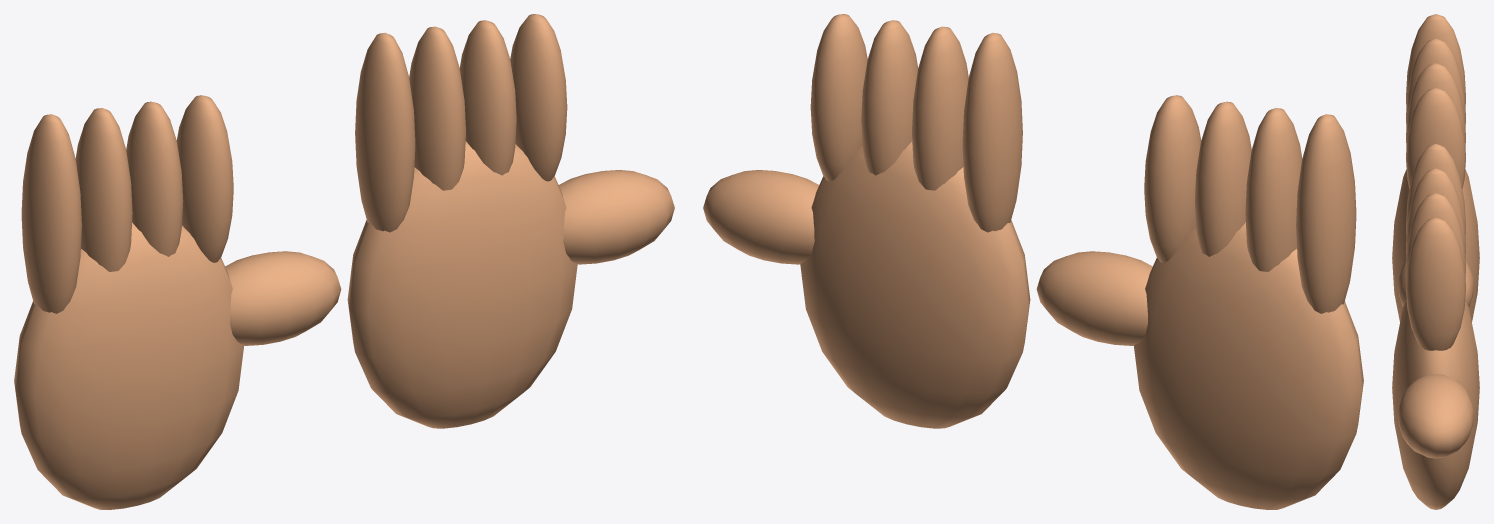
File: word-hands.glb
3 views of the same model, side by side, from view 1: azimuth 30°, elevation 25°; view 2: azimuth 150°, elevation 25°; view 3: azimuth 270°, elevation 25° (orthographic). The views are drawn at different scales.
Parts seen in each view (by area): view 1: palm.001, palm, finger, finger.004, thumb.001, thumb, finger.001, finger.005, finger.007, finger.003, finger.006, finger.002; view 2: palm.001, palm, finger, finger.004, thumb.001, thumb, finger.001, finger.005, finger.007, finger.003, finger.006, finger.002; view 3: palm.001, finger.007, thumb.001, finger.003, palm, finger.004, finger.005, finger, finger.001, finger.006, finger.002, thumb.
Part boxes in pixels (left/top/right/bottom): palm.001: left=347, top=141, right=577, bottom=428; palm: left=14, top=222, right=244, bottom=509; finger: left=21, top=114, right=81, bottom=313; finger.004: left=355, top=32, right=415, bottom=232; thumb.001: left=558, top=170, right=674, bottom=264; thumb: left=225, top=251, right=341, bottom=345; finger.001: left=75, top=108, right=132, bottom=271; finger.005: left=409, top=26, right=465, bottom=190; finger.007: left=510, top=14, right=567, bottom=181; finger.003: left=176, top=95, right=233, bottom=262; finger.006: left=459, top=20, right=516, bottom=175; finger.002: left=126, top=101, right=183, bottom=256; palm.001: left=800, top=141, right=1030, bottom=428; palm: left=1133, top=222, right=1363, bottom=509; finger: left=1296, top=114, right=1356, bottom=313; finger.004: left=962, top=32, right=1022, bottom=232; thumb.001: left=703, top=170, right=819, bottom=264; thumb: left=1036, top=251, right=1152, bottom=345; finger.001: left=1245, top=108, right=1302, bottom=271; finger.005: left=912, top=26, right=968, bottom=190; finger.007: left=810, top=14, right=867, bottom=181; finger.003: left=1144, top=95, right=1201, bottom=262; finger.006: left=861, top=20, right=918, bottom=175; finger.002: left=1194, top=101, right=1251, bottom=256; palm.001: left=1392, top=299, right=1479, bottom=509; finger.007: left=1406, top=218, right=1465, bottom=350; thumb.001: left=1397, top=374, right=1474, bottom=458; finger.003: left=1406, top=88, right=1465, bottom=188; palm: left=1392, top=169, right=1479, bottom=321; finger.004: left=1406, top=144, right=1465, bottom=236; finger.005: left=1406, top=168, right=1465, bottom=256; finger: left=1406, top=14, right=1465, bottom=106; finger.001: left=1406, top=38, right=1465, bottom=127; finger.006: left=1406, top=193, right=1465, bottom=277; finger.002: left=1406, top=63, right=1465, bottom=147; thumb: left=1397, top=260, right=1474, bottom=306.
Size of the model in its own units: 1.1 by 0.66 by 0.16.
